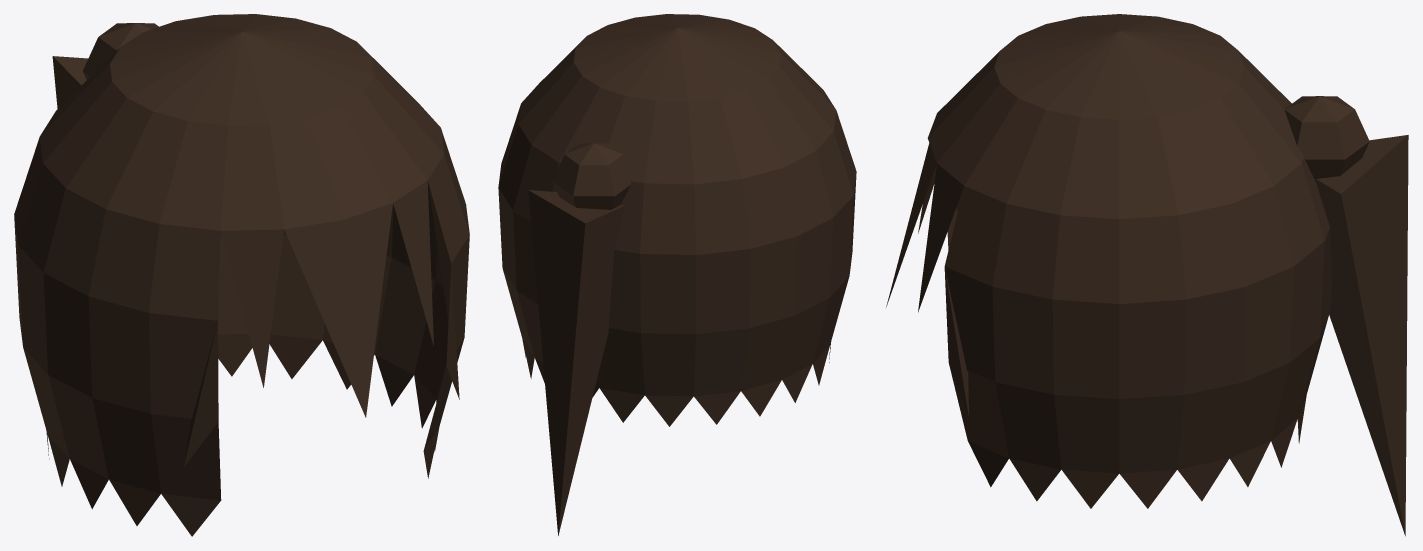
File: hair_pony.glb
The picture shows the model from 3 angles, left to right: view 1: azimuth 30°, elevation 25°; view 2: azimuth 150°, elevation 25°; view 3: azimuth 270°, elevation 25°; orthographic projection. The views are drawn at different scales.
Visible parts, largest first — view 1: hair; view 2: hair; view 3: hair.
Boxes of the visible parts, x1=… form: hair: x1=14, y1=14, x2=469, y2=536; hair: x1=498, y1=14, x2=856, y2=535; hair: x1=886, y1=14, x2=1408, y2=536.
Size of the model in its own units: 0.604 by 0.78 by 0.7311.
